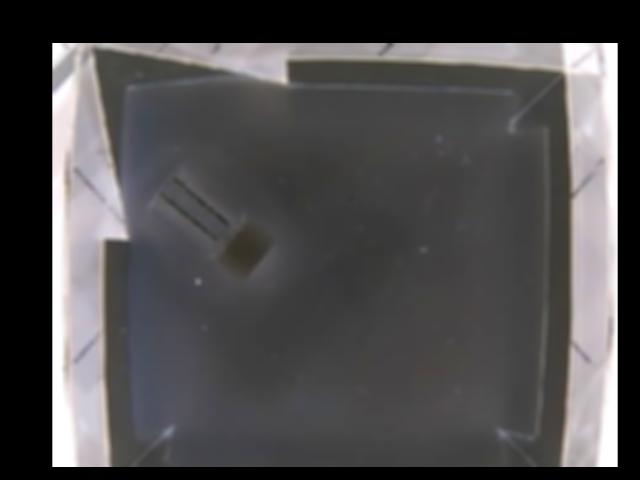Bottle: (145, 165, 275, 278)
